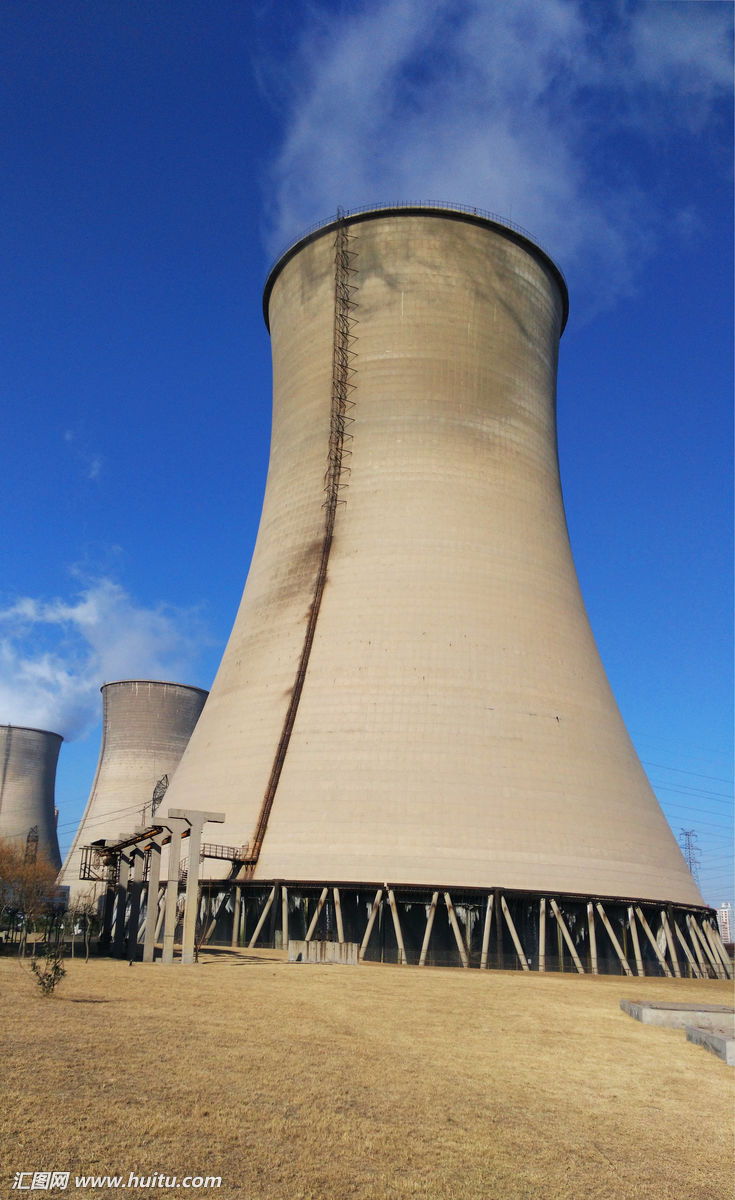dust: (253, 35, 618, 291)
